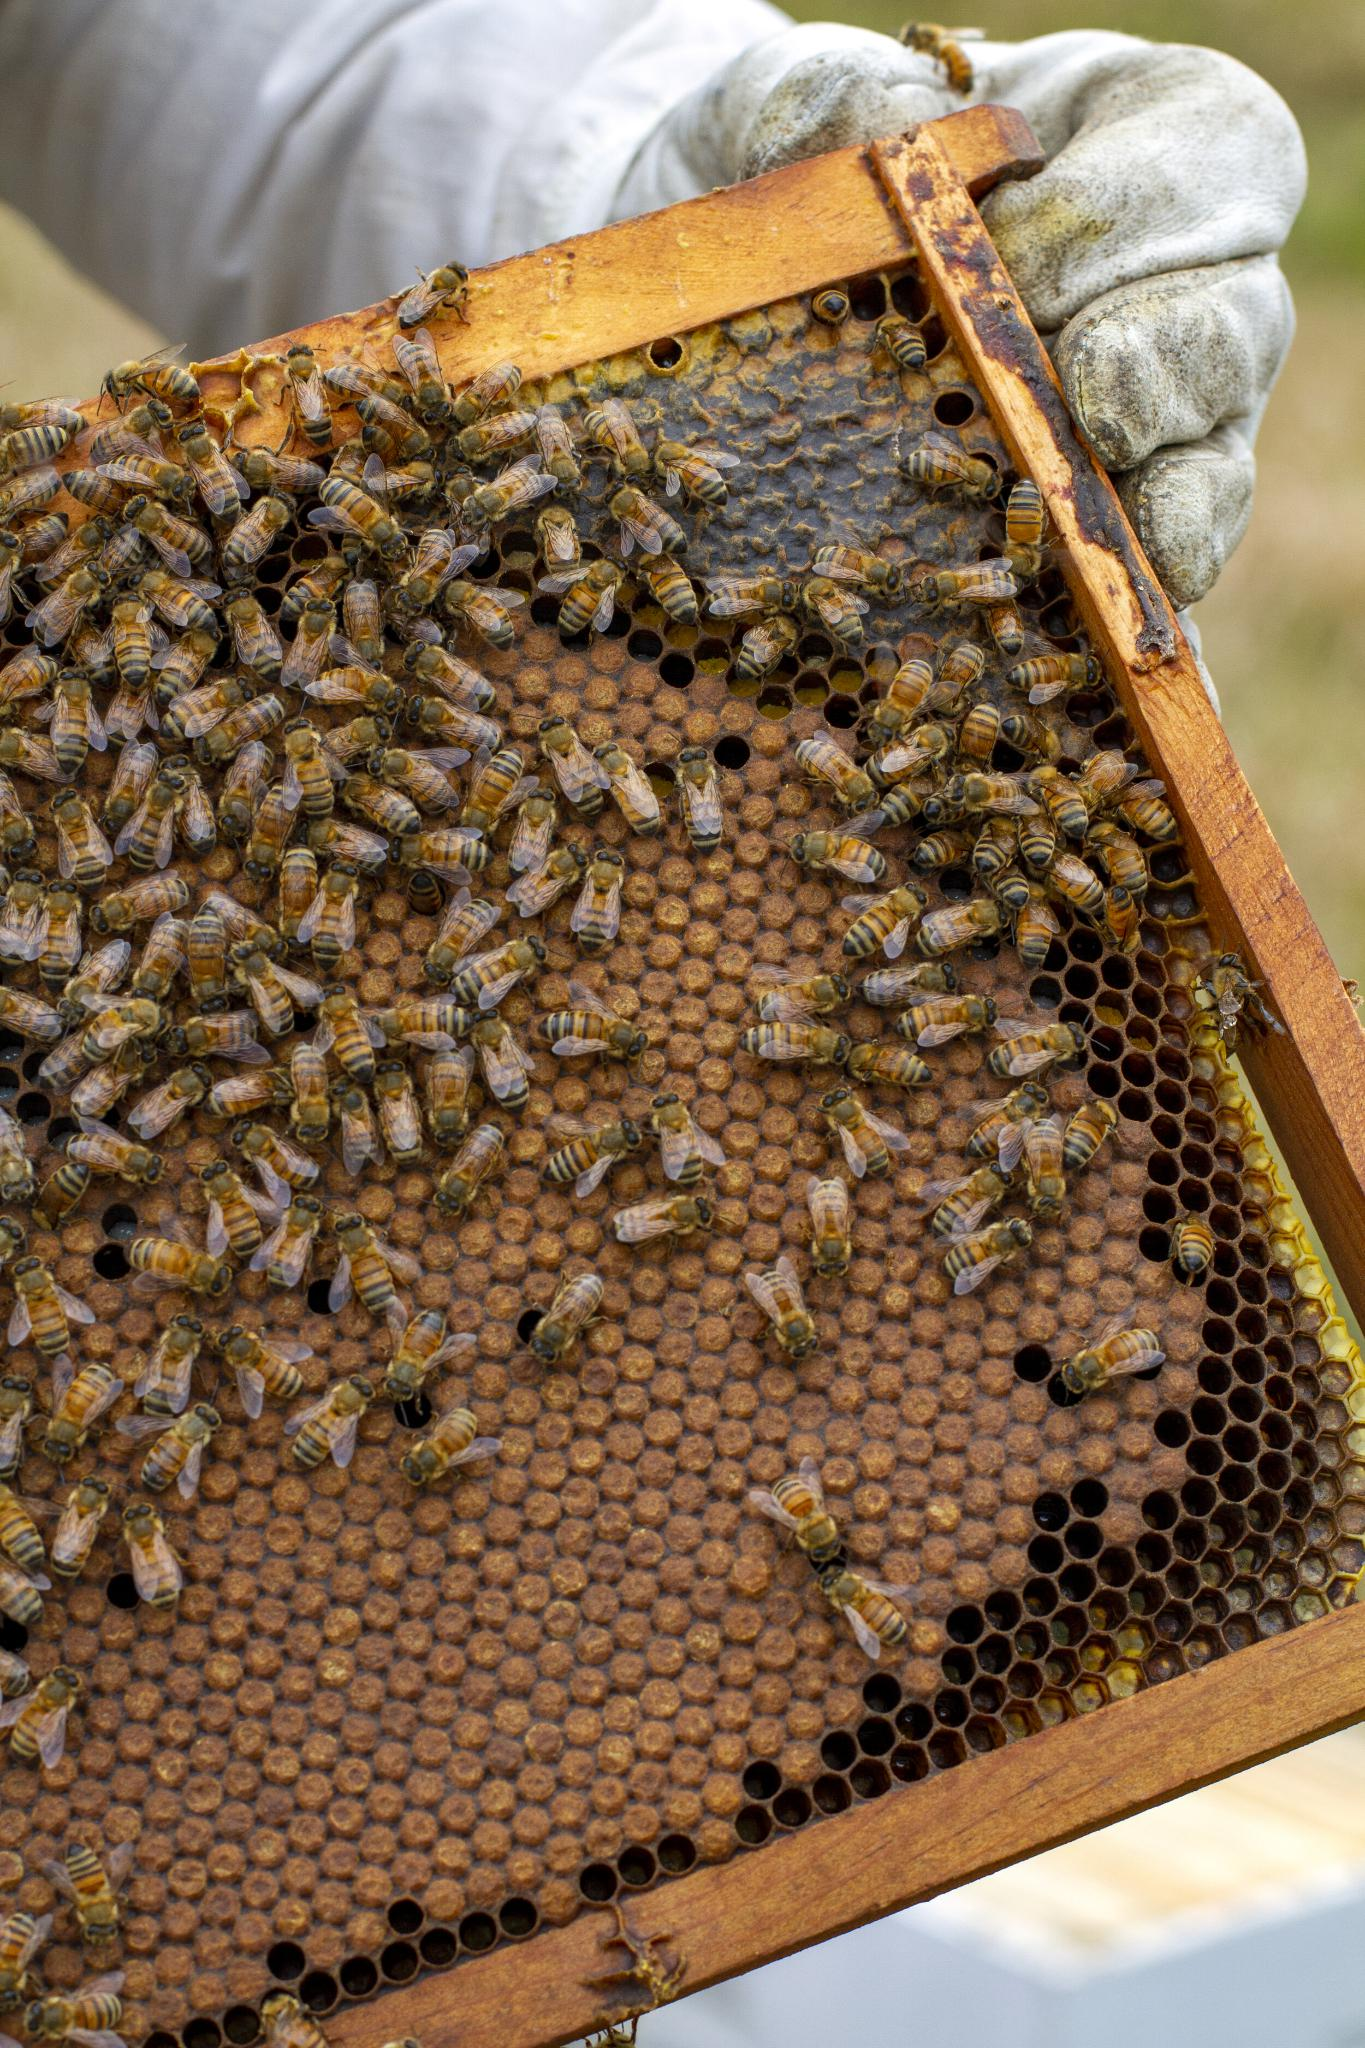bee: (294, 1375, 372, 1466), (44, 1363, 116, 1457), (142, 1404, 218, 1492), (320, 478, 404, 556), (820, 1568, 906, 1643), (75, 1037, 151, 1121), (449, 935, 544, 1002), (11, 1666, 78, 1760), (436, 1121, 506, 1211), (34, 562, 108, 646), (539, 716, 602, 815), (50, 1477, 110, 1581), (405, 641, 497, 708), (201, 1162, 264, 1259), (1065, 1328, 1162, 1390), (334, 1214, 393, 1316), (197, 693, 285, 761), (844, 883, 926, 956), (469, 1010, 527, 1113), (145, 1316, 203, 1419), (532, 1274, 602, 1360), (404, 1402, 478, 1482), (542, 1121, 638, 1182), (218, 1325, 303, 1393), (178, 425, 239, 521), (594, 743, 657, 836), (233, 941, 292, 1038), (966, 1083, 1045, 1156), (794, 740, 876, 810), (125, 1238, 230, 1293), (864, 720, 954, 784), (236, 1121, 321, 1188), (932, 1163, 1012, 1235), (603, 484, 686, 553), (425, 895, 492, 979), (125, 496, 209, 563), (15, 1258, 70, 1360), (823, 1089, 887, 1176), (81, 1000, 169, 1063), (128, 770, 183, 871), (757, 1268, 818, 1358), (158, 679, 253, 737), (407, 696, 501, 754), (40, 519, 113, 594), (133, 1063, 209, 1134), (125, 1504, 177, 1609), (558, 554, 626, 633), (318, 985, 375, 1081), (224, 589, 282, 682), (53, 789, 105, 892), (160, 757, 215, 854), (913, 900, 1010, 955), (91, 879, 190, 932), (771, 1479, 838, 1556), (129, 566, 215, 627), (267, 1197, 320, 1294), (369, 749, 449, 813), (941, 1220, 1030, 1278), (207, 895, 286, 959), (296, 819, 385, 876), (986, 1023, 1083, 1075), (157, 623, 219, 703), (388, 1306, 446, 1393), (440, 582, 513, 650), (870, 658, 931, 740), (463, 746, 518, 837), (538, 1011, 647, 1057), (335, 772, 419, 831), (896, 449, 1001, 496), (355, 399, 434, 461), (375, 1060, 420, 1168), (247, 781, 297, 879), (285, 719, 334, 818), (652, 1093, 702, 1189), (513, 844, 585, 911), (580, 410, 646, 483), (649, 442, 725, 504), (312, 863, 356, 970), (376, 582, 446, 649), (225, 493, 292, 563), (1031, 850, 1104, 914), (38, 1025, 113, 1087), (91, 400, 169, 460), (792, 831, 887, 880), (67, 1842, 116, 1937), (905, 23, 972, 91), (203, 1066, 294, 1116), (64, 1133, 160, 1180), (222, 743, 273, 833), (1088, 822, 1146, 900), (678, 749, 721, 854), (134, 918, 187, 1002), (283, 598, 332, 690), (105, 743, 157, 828), (894, 996, 998, 1038), (38, 880, 78, 991), (401, 262, 468, 327), (62, 947, 126, 1016), (286, 349, 331, 446), (449, 410, 538, 458), (189, 900, 227, 1013), (280, 557, 350, 618), (0, 869, 43, 968), (390, 831, 492, 872), (62, 472, 143, 524), (739, 1023, 849, 1061), (754, 973, 849, 1017), (638, 553, 696, 624), (401, 528, 451, 611), (579, 851, 620, 952), (309, 667, 402, 711), (452, 364, 521, 423), (801, 579, 861, 646), (855, 962, 955, 1002), (372, 1003, 472, 1043), (465, 467, 539, 521), (1028, 767, 1086, 836), (446, 466, 486, 565), (398, 341, 448, 419), (331, 1077, 375, 1165), (8, 513, 70, 576), (612, 1198, 710, 1238), (107, 455, 193, 499), (509, 789, 551, 879), (105, 358, 201, 397), (232, 451, 323, 492), (812, 547, 899, 589), (323, 365, 410, 408), (812, 1179, 850, 1274), (737, 617, 795, 679), (0, 728, 72, 778), (876, 767, 941, 822), (1111, 784, 1176, 839), (0, 1485, 43, 1568), (32, 1163, 90, 1224), (280, 845, 315, 946), (699, 582, 795, 618), (26, 1995, 122, 2031), (113, 594, 151, 685), (533, 417, 579, 493), (0, 1911, 37, 2005), (344, 580, 382, 670), (1062, 1099, 1112, 1166), (171, 1016, 259, 1054), (847, 1045, 931, 1084), (55, 668, 87, 772), (70, 615, 116, 687), (0, 985, 59, 1040), (212, 512, 254, 588), (1015, 882, 1051, 970), (292, 1042, 326, 1137), (1007, 655, 1098, 690), (1027, 1118, 1062, 1209), (0, 1376, 30, 1482), (1072, 751, 1126, 810), (431, 1046, 465, 1140), (935, 644, 981, 713), (108, 670, 149, 746), (0, 767, 35, 856), (973, 850, 1028, 906), (957, 700, 998, 774), (320, 716, 390, 758), (1217, 952, 1248, 1048), (923, 571, 1024, 600), (538, 506, 577, 579), (0, 1556, 43, 1623), (87, 530, 140, 583), (0, 402, 88, 434), (0, 426, 70, 466), (999, 714, 1059, 760), (0, 1110, 30, 1198), (0, 656, 59, 700), (986, 586, 1022, 655), (0, 474, 61, 515), (372, 463, 442, 498), (324, 440, 363, 504), (925, 783, 986, 822), (341, 506, 384, 562), (973, 815, 1015, 872), (952, 774, 1022, 807), (881, 317, 925, 367), (916, 825, 973, 863), (1019, 798, 1051, 865), (1106, 885, 1138, 949), (270, 2013, 329, 2046), (1175, 1220, 1211, 1271), (0, 528, 18, 624), (0, 1651, 30, 1696), (407, 872, 442, 912), (812, 288, 847, 321), (0, 1218, 21, 1262)
